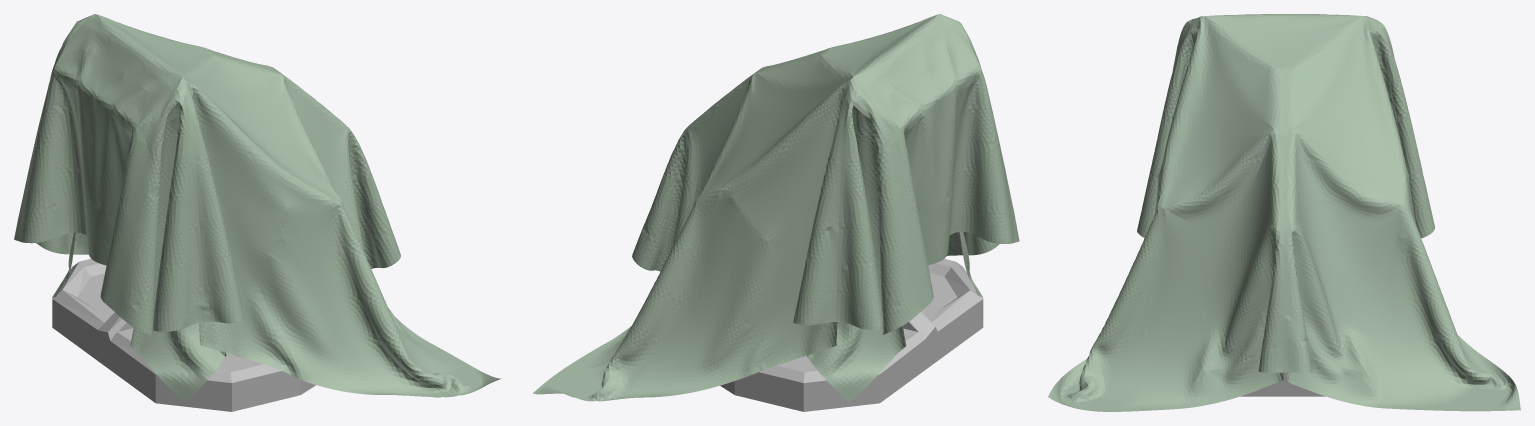
File: level_3.glb
3 views of the same model, side by side, from view 1: azimuth 30°, elevation 25°; view 2: azimuth 150°, elevation 25°; view 3: azimuth 270°, elevation 25° (orthographic). The views are drawn at different scales.
Parts seen in each view (by area): view 1: world, object.obj; view 2: world, object.obj; view 3: world, object.obj.
Boxes of the visible parts, x1,y1,x2,y2 form: world: (14, 14, 501, 402); object.obj: (52, 259, 315, 411); world: (533, 14, 1019, 403); object.obj: (720, 259, 983, 411); world: (1048, 14, 1520, 411); object.obj: (1240, 372, 1325, 396).
Size of the model in its own units: 0.3335 by 0.3015 by 0.4484.
